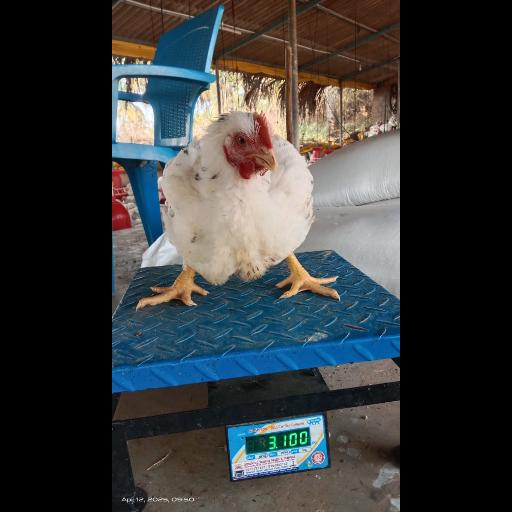chick: (133, 111, 340, 307)
